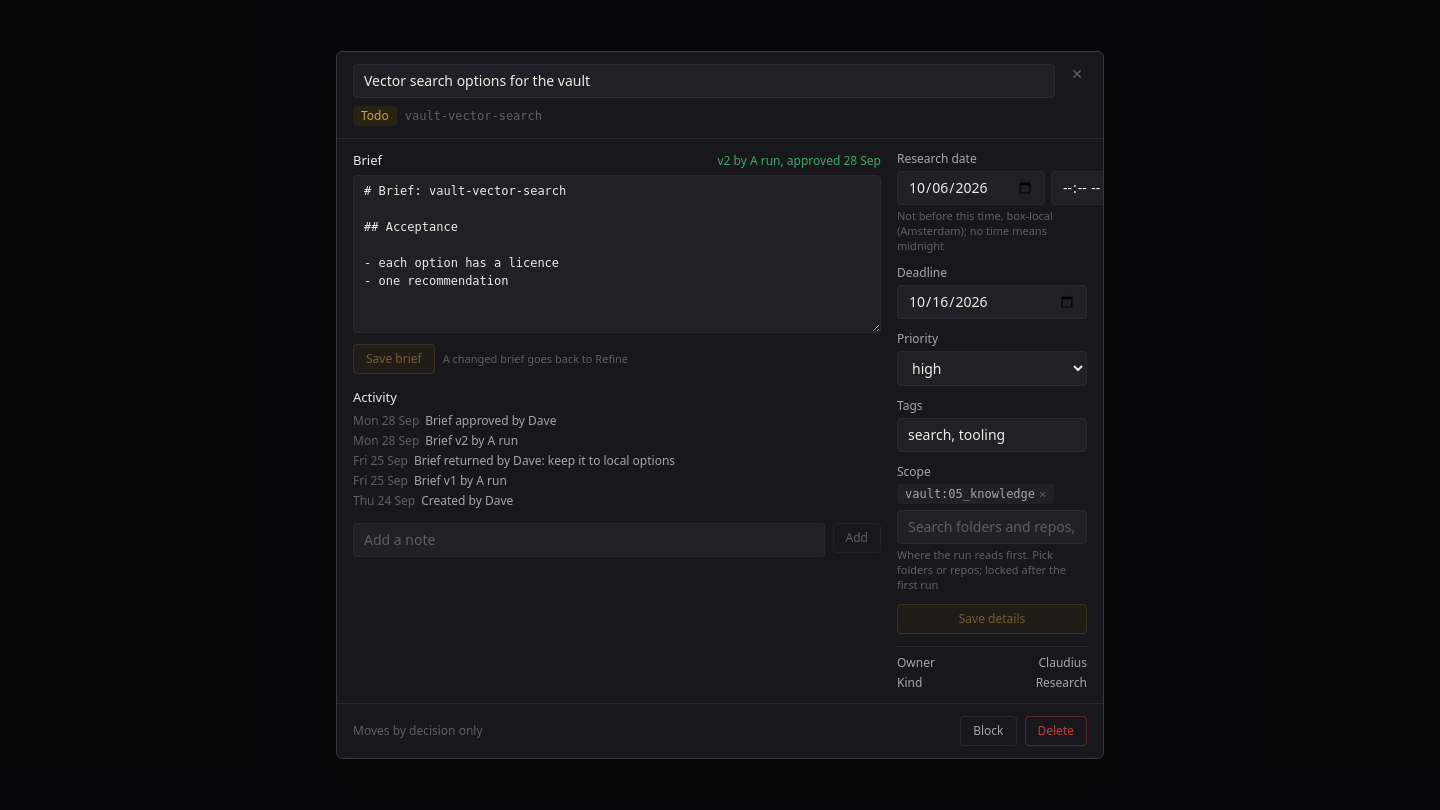
Test: CardDialog, edit mode › shows any other refusal as written
This screenshot has width=1440, height=810.
Step 1. Type "2026-11-01" into the date field named "Research date" → point(971, 188), box [897,171,1045,205]
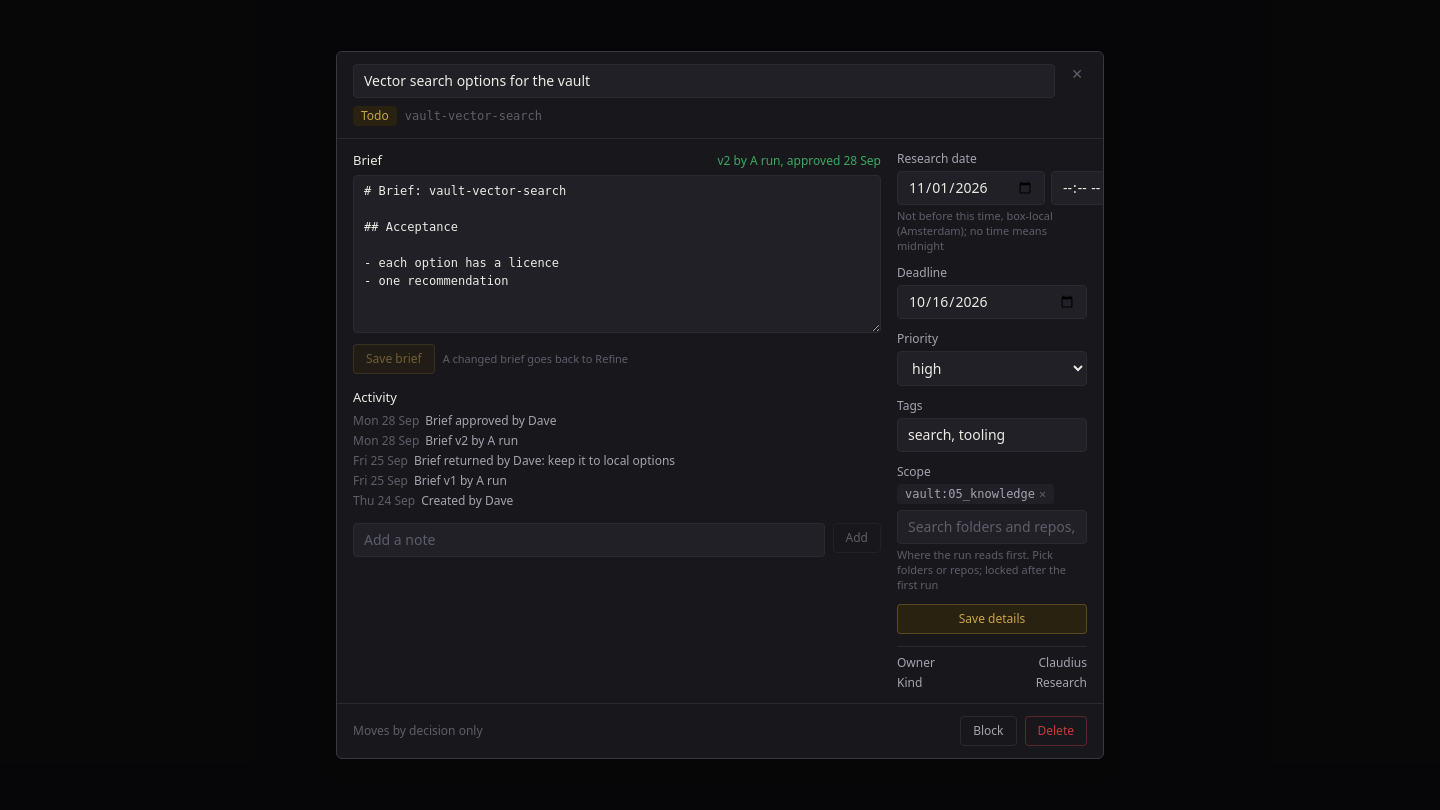
Step 2. Click the button "Save details" → point(992, 619), box [897,604,1087,634]
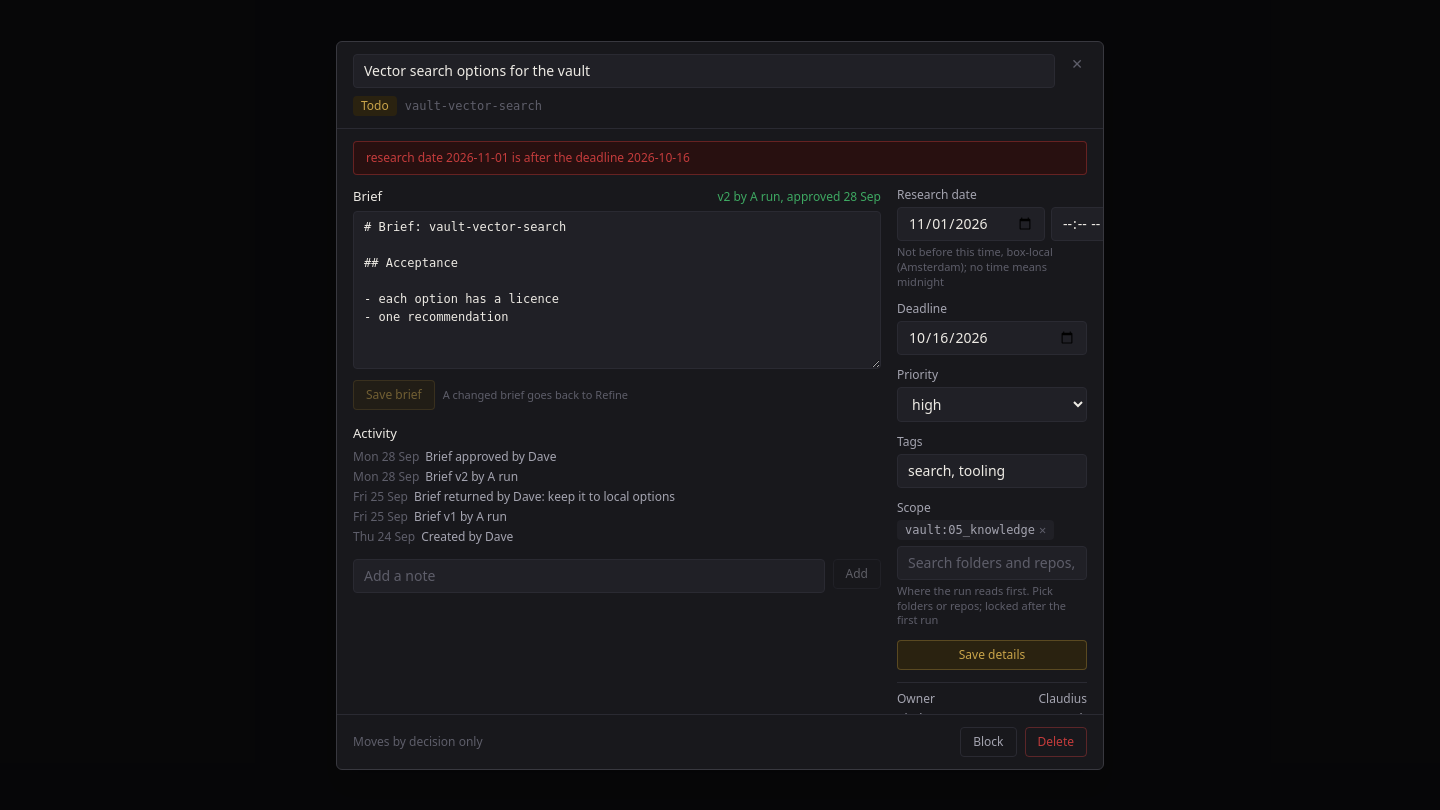
Expected: the message shows "is after the deadline", [366,148,690,166]
